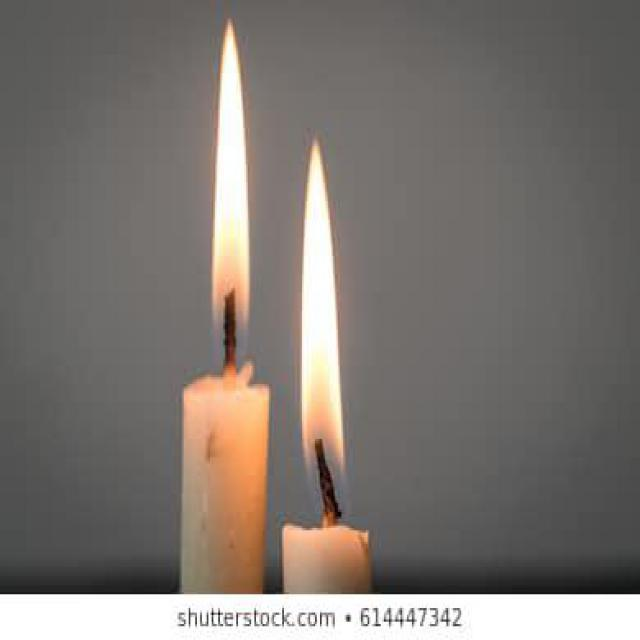Fire: (300, 137, 345, 498), (212, 18, 248, 350)
